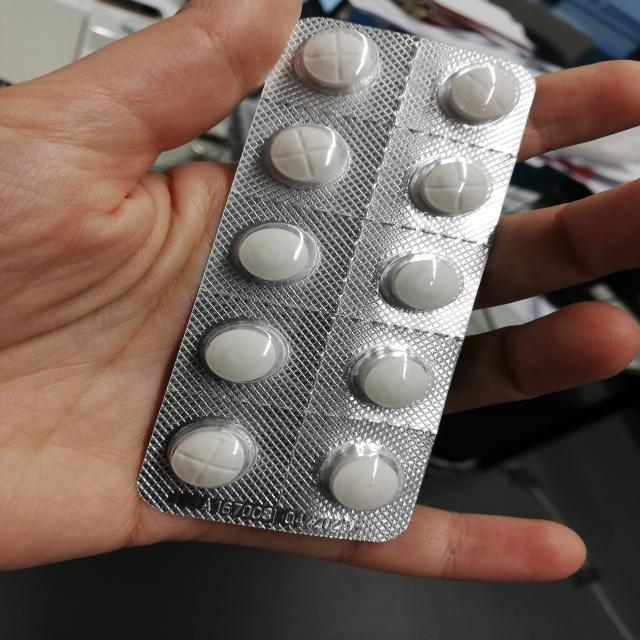Pill: (363, 242, 470, 321), (344, 336, 442, 417), (313, 439, 407, 521), (226, 218, 324, 296), (157, 418, 255, 494), (193, 315, 287, 392), (257, 116, 352, 192), (402, 147, 496, 222), (439, 53, 520, 139), (291, 21, 378, 93)
